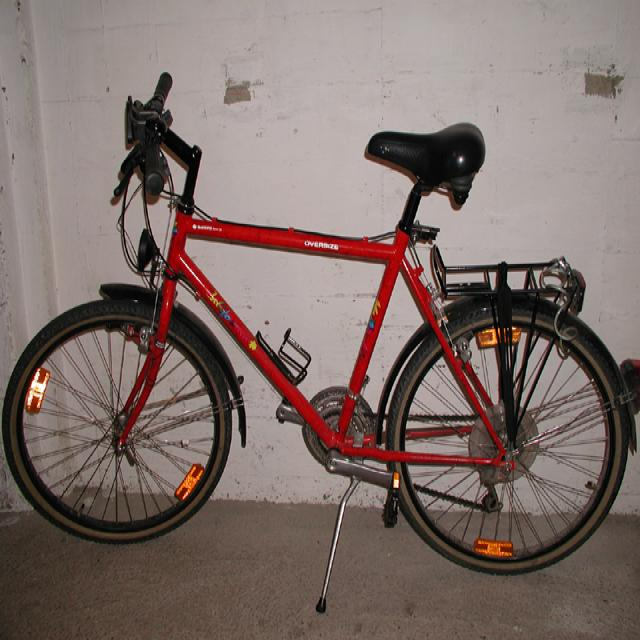bicycle: (1, 71, 638, 596)
